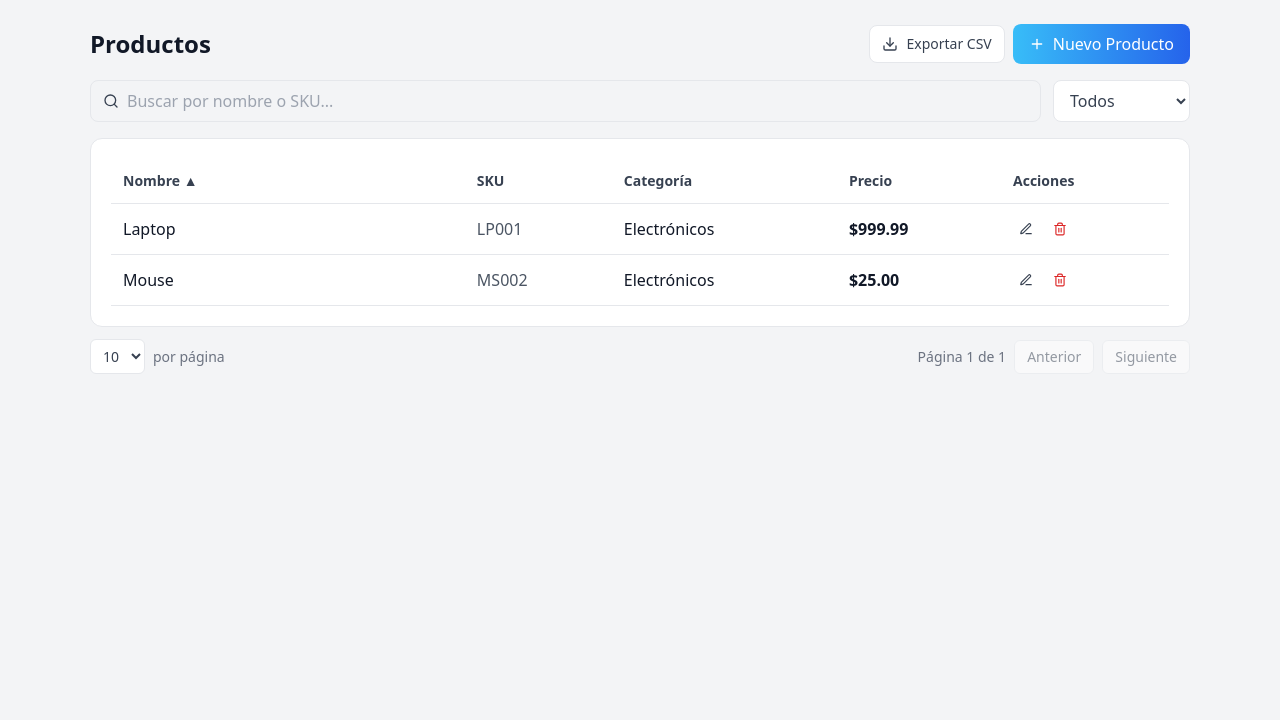
Test: ProductsPage › opens create modal on button click
Check: the heading "Productos" is shown, box [90, 28, 211, 60]
Click the button labelled "Nuevo Producto" at (1101, 44), box [1013, 24, 1190, 64]
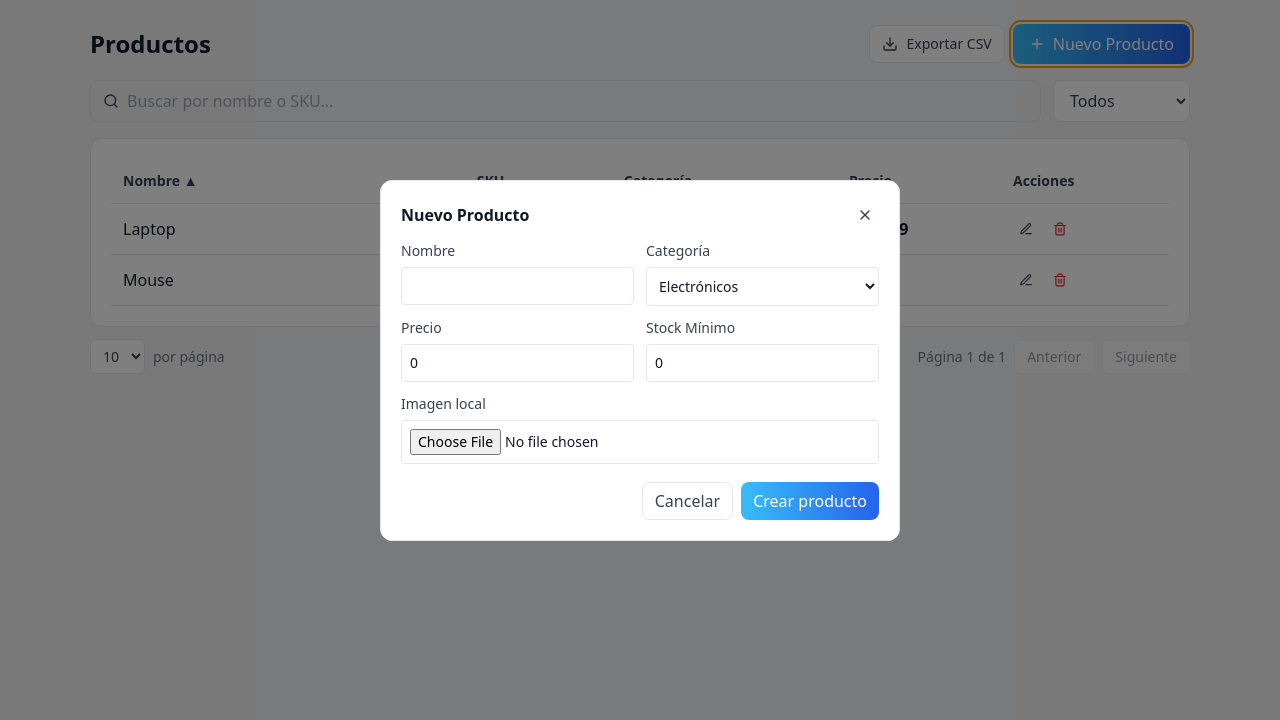
Check: the button "Crear producto" is shown, box [741, 482, 879, 520]
Check: the button "Cancelar" is shown, box [642, 482, 733, 520]
